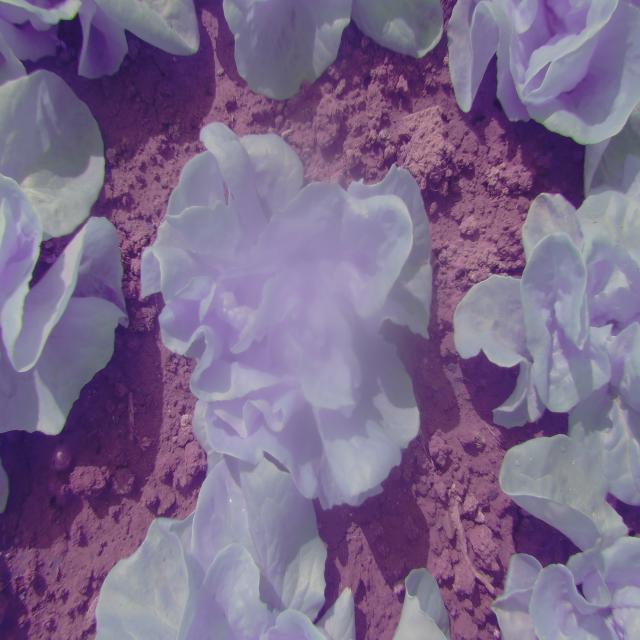vege: (136, 120, 436, 510)
